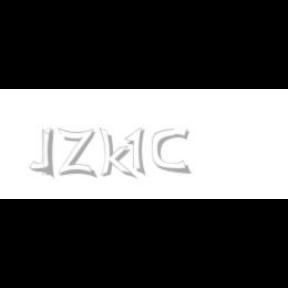1: (124, 128, 146, 176)
C: (152, 128, 190, 174)
I: (42, 128, 56, 180)
J: (28, 128, 54, 172)
Z: (58, 128, 94, 178)
k: (98, 128, 136, 180)
